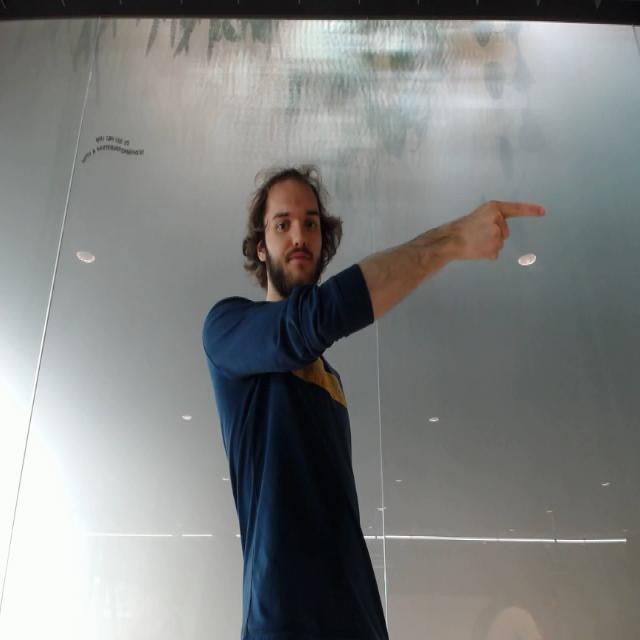right: (452, 194, 552, 268)
